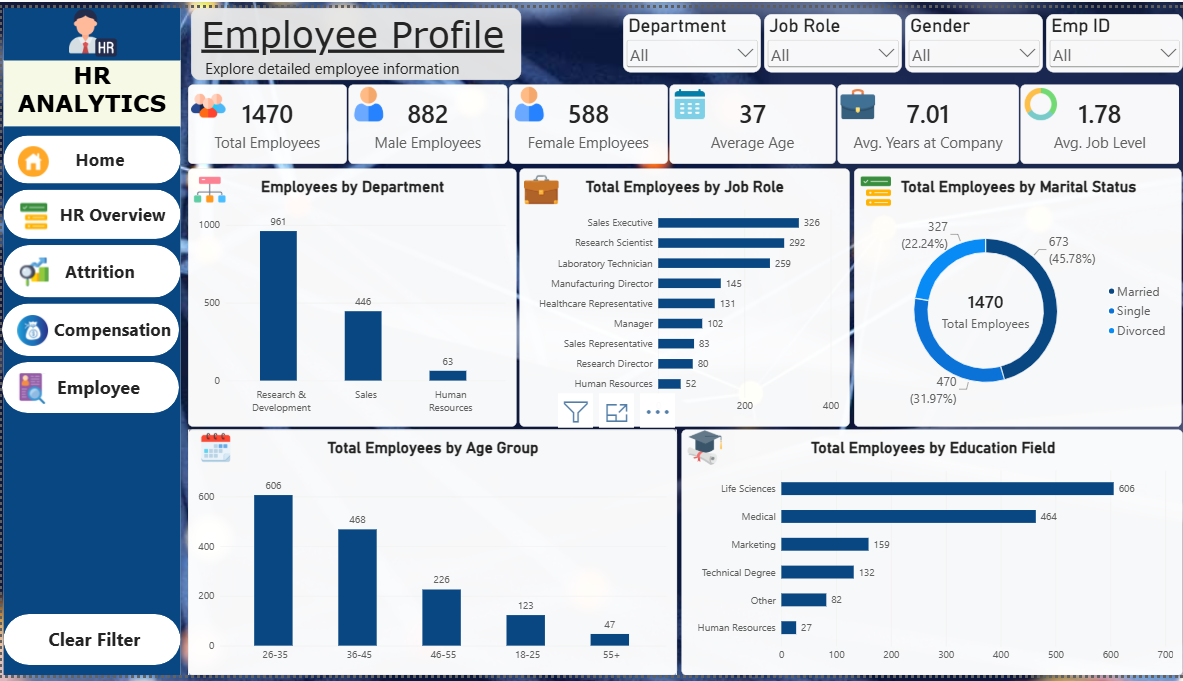

This screenshot's page, from the dashboard's own definition file:
{"tool":"powerbi","page":{"name":"Employee","canvas":[1920,1080],"ordinal":4},"visuals":[{"type":"group","id":"g1","title":"Group 8","box":[0.4,0,288.6,1080.8],"z":0},{"type":"shape","box":[2.4,87.4,286.6,106.9],"z":0,"group":"g2"},{"type":"card","fields":{"Values":["Measure.Total Employees"]},"box":[300.5,124.4,257.5,128.7],"z":0,"group":"g3"},{"type":"shape","box":[2.4,0,286.6,1080.8],"z":1000,"group":"g2"},{"type":"card","fields":{"Values":["Measure.Male Employees"]},"box":[560.4,124.4,257.5,128.7],"z":1000,"group":"g3"},{"type":"columnChart","title":"Employees by Department","fields":{"Category":["Dim_Department.Department"],"Y":["Measure.Total Employees"]},"box":[301.2,259.9,531.9,417.8],"z":1000},{"type":"card","fields":{"Values":["Measure.Female Employees"]},"box":[820.3,124.4,257.5,128.7],"z":2000,"group":"g3"},{"type":"actionButton","title":"Home","box":[2.4,206.5,286.6,77.7],"z":2000,"group":"g2"},{"type":"barChart","title":"Total Employees by Job Role","fields":{"Category":["Dim_Job.JobRole"],"Y":["Measure.Total Employees"]},"box":[838,259.9,534.3,417.8],"z":2000},{"type":"textbox","box":[2.4,85,286.6,106.9],"z":3000,"group":"g2"},{"type":"card","fields":{"Values":["Measure.Average Age"]},"box":[1080.2,124.4,269.6,128.7],"z":3000,"group":"g3"},{"type":"columnChart","title":"Total Employees by Age Group","fields":{"Category":["Dim_Employee.AgeGroup"],"Y":["Measure.Total Employees"]},"box":[301.2,682.5,791.8,398.3],"z":3000},{"type":"card","fields":{"Values":["Measure.Avg. Years at Company"]},"box":[1352.2,124.4,293.9,128.7],"z":4000,"group":"g3"},{"type":"donutChart","title":"Total Employees by Marital Status","fields":{"Category":["Dim_Employee.MaritalStatus"],"Y":["Measure.Total Employees"]},"box":[1379.6,259.9,531.9,417.8],"z":4000},{"type":"actionButton","title":"Home","box":[2.4,293.9,286.6,80.2],"z":4000,"group":"g2"},{"type":"card","fields":{"Values":["Measure.Avg. Job Level"]},"box":[1648.5,124.4,257.5,128.7],"z":5000,"group":"g3"},{"type":"actionButton","title":"Home","box":[2.4,383.8,286.6,85],"z":5000,"group":"g2"},{"type":"barChart","title":"Total Employees by Education Field","fields":{"Category":["Dim_Education.EducationField"],"Y":["Measure.Total Employees"]},"box":[1100.3,681.7,813.7,398.3],"z":5000},{"type":"textbox","box":[306,0,534.3,116.6],"z":6000},{"type":"image","box":[305.4,129.3,55.9,58.3],"z":6000,"group":"g3"},{"type":"slicer","fields":{"Values":["Dim_Department.Department"]},"box":[1006,9.5,223.5,94.7],"z":7000,"group":"g4"},{"type":"image","box":[1653.4,126.8,55.9,58.3],"z":7000,"group":"g3"},{"type":"image","box":[308.5,264.7,55.9,58.3],"z":7000},{"type":"actionButton","title":"Home","box":[1.3,478.5,286.6,85],"z":7000,"group":"g2"},{"type":"slicer","fields":{"Values":["Dim_Job.JobRole"]},"box":[1234.3,9.5,223.5,94.7],"z":8000,"group":"g4"},{"type":"image","box":[1357,126.8,55.9,58.3],"z":8000,"group":"g3"},{"type":"image","box":[318.2,682.5,55.9,58.3],"z":8000},{"type":"slicer","fields":{"Values":["Dim_Employee.Gender"]},"box":[1462.6,9.5,223.5,94.7],"z":9000,"group":"g4"},{"type":"image","box":[1085,126.8,55.9,58.3],"z":9000,"group":"g3"},{"type":"image","box":[1386.9,267.2,55.9,58.3],"z":9000},{"type":"actionButton","title":"Home","box":[2.4,981.3,286.6,82.6],"z":9000,"group":"g2"},{"type":"slicer","fields":{"Values":["Dim_Employee.EmpID"]},"box":[1690.9,9.5,223.5,94.7],"z":10000,"group":"g4"},{"type":"image","box":[825.1,126.8,55.9,58.3],"z":10000,"group":"g3"},{"type":"image","box":[845.2,264.7,55.9,58.3],"z":10000},{"type":"actionButton","title":"Home","box":[0.4,573.2,286.6,82.6],"z":10000,"group":"g2"},{"type":"image","box":[565.2,126.8,55.9,58.3],"z":11000,"group":"g3"},{"type":"image","box":[1110,682.5,55.9,58.3],"z":11000},{"type":"group","id":"g2","title":"Group 1","box":[0.4,0,288.6,1080.8],"z":11001,"group":"g1"},{"type":"image","box":[89.8,0,114.2,80.2],"z":11501,"group":"g1"},{"type":"group","id":"g3","title":"Group 2","box":[300.5,124.4,1605.5,128.7],"z":12000},{"type":"group","id":"g4","title":"Group 3","box":[1006,9.5,908.4,94.7],"z":13000}]}

Visuals, with their boxes in screenshot pixels (x1, y1, x2, y2), scaled from the page's 1920x1080 canvas onto the 1183x681 screenshot:
"Group 8" group: 0,0,178,680
shape: 1,55,178,123
card - Measure.Total Employees: 185,78,344,160
shape: 1,0,178,680
card - Measure.Male Employees: 345,78,504,160
"Employees by Department" columnChart: 186,164,513,427
card - Measure.Female Employees: 505,78,664,160
"Home" actionButton: 1,130,178,179
"Total Employees by Job Role" barChart: 516,164,846,427
textbox: 1,54,178,121
card - Measure.Average Age: 666,78,832,160
"Total Employees by Age Group" columnChart: 186,430,673,680
card - Measure.Avg. Years at Company: 833,78,1014,160
"Total Employees by Marital Status" donutChart: 850,164,1178,427
"Home" actionButton: 1,185,178,236
card - Measure.Avg. Job Level: 1016,78,1174,160
"Home" actionButton: 1,242,178,296
"Total Employees by Education Field" barChart: 678,430,1179,680
textbox: 189,0,518,74
image: 188,82,223,118
slicer - Dim_Department.Department: 620,6,758,66
image: 1019,80,1053,117
image: 190,167,225,204
"Home" actionButton: 1,302,177,355
slicer - Dim_Job.JobRole: 761,6,898,66
image: 836,80,871,117
image: 196,430,231,467
slicer - Dim_Employee.Gender: 901,6,1039,66
image: 669,80,703,117
image: 855,168,889,205
"Home" actionButton: 1,619,178,671
slicer - Dim_Employee.EmpID: 1042,6,1180,66
image: 508,80,543,117
image: 521,167,555,204
"Home" actionButton: 0,361,177,414
image: 348,80,383,117
image: 684,430,718,467
"Group 1" group: 0,0,178,680
image: 55,0,126,51
"Group 2" group: 185,78,1174,160
"Group 3" group: 620,6,1180,66
